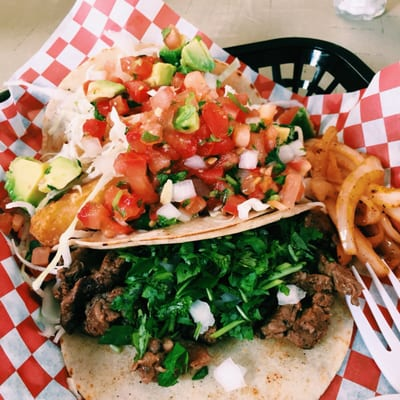pizza: (332, 0, 389, 22)
